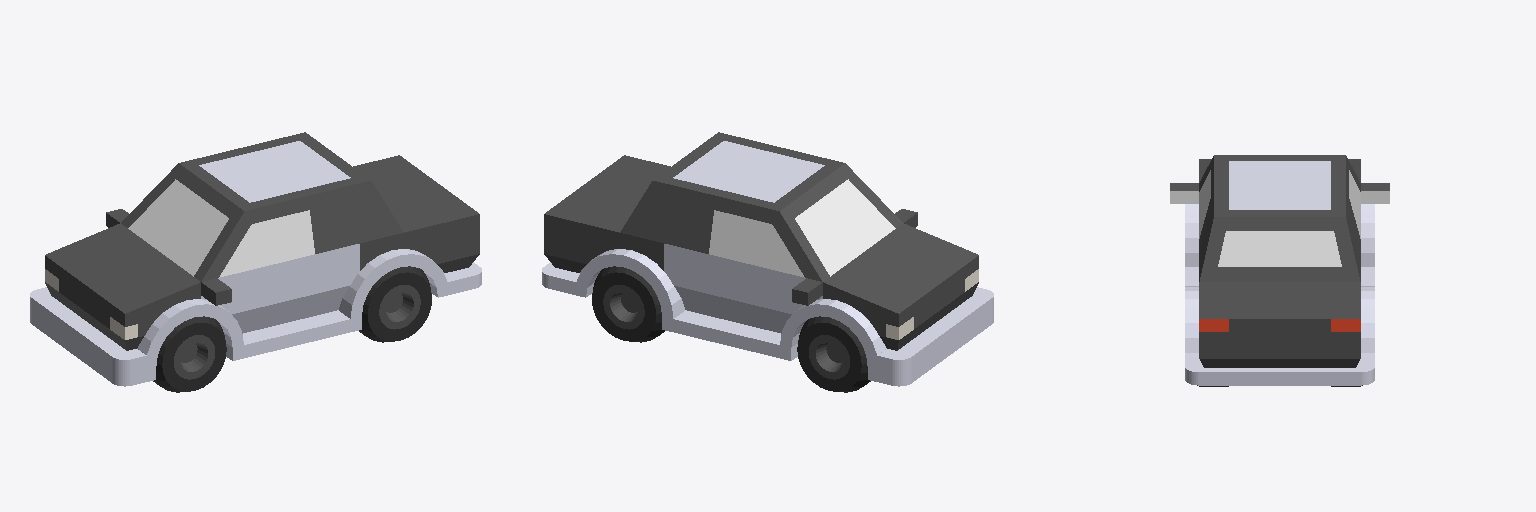
The picture shows the model from 3 angles: view 1: azimuth 30°, elevation 25°; view 2: azimuth 150°, elevation 25°; view 3: azimuth 270°, elevation 25°; orthographic projection.
Parts seen in each view (by area): view 1: body, wheel_frontLeft, wheel_backLeft; view 2: body, wheel_frontRight, wheel_backRight; view 3: body.
Part boxes in pixels (left/top/right/bottom): body: left=30, top=132, right=481, bottom=386; wheel_frontLeft: left=153, top=316, right=226, bottom=392; wheel_backLeft: left=359, top=266, right=431, bottom=342; body: left=542, top=132, right=993, bottom=386; wheel_frontRight: left=797, top=316, right=870, bottom=392; wheel_backRight: left=592, top=266, right=664, bottom=342; body: left=1170, top=155, right=1389, bottom=385.
Bounding box in the file's own units: 1 × 0.4138 × 0.5172.